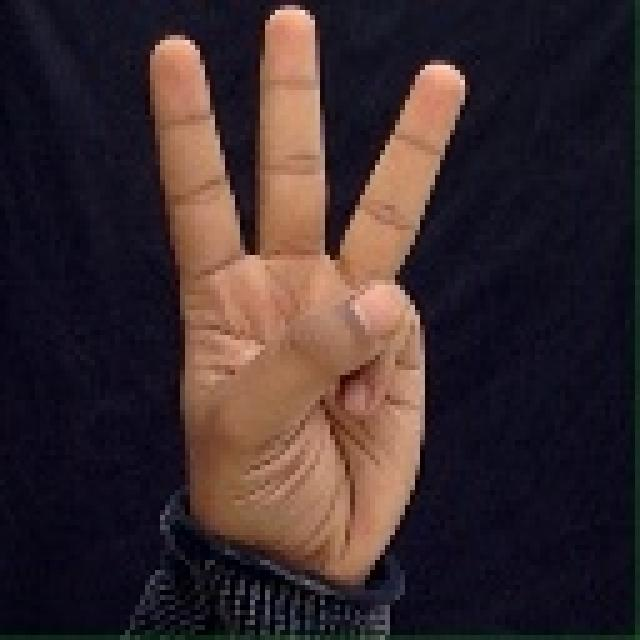Three: (87, 0, 505, 600)
